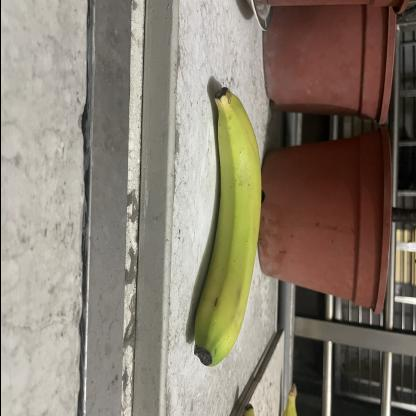banana: (184, 79, 264, 370)
